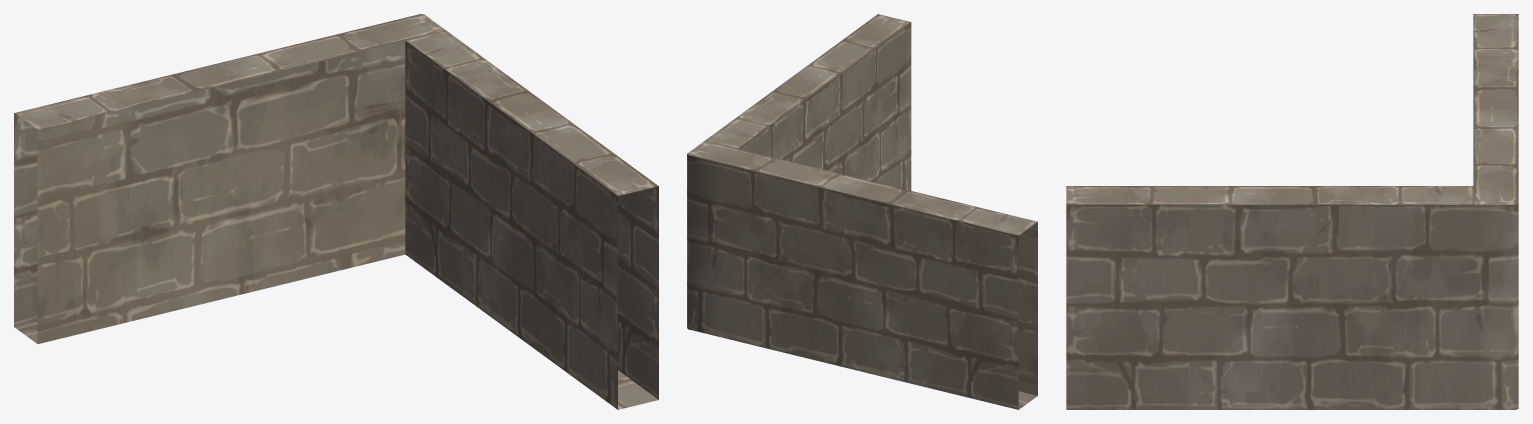
The model's file is Stairs_Exterior_Sides45.gltf.
The picture shows the model from 3 angles, left to right: view 1: azimuth 30°, elevation 25°; view 2: azimuth 150°, elevation 25°; view 3: azimuth 270°, elevation 25°; orthographic projection. The views are drawn at different scales.
Visible parts, largest first — view 1: Stairs_Exterior_Sides45; view 2: Stairs_Exterior_Sides45; view 3: Stairs_Exterior_Sides45.
Part boxes in pixels (x1=…): Stairs_Exterior_Sides45: x1=14, y1=14, x2=658, y2=409; Stairs_Exterior_Sides45: x1=687, y1=14, x2=1037, y2=409; Stairs_Exterior_Sides45: x1=1066, y1=14, x2=1518, y2=409.
Size of the model in its own units: 2 by 1 by 2.
Materials: 1 (1 with a texture image).
